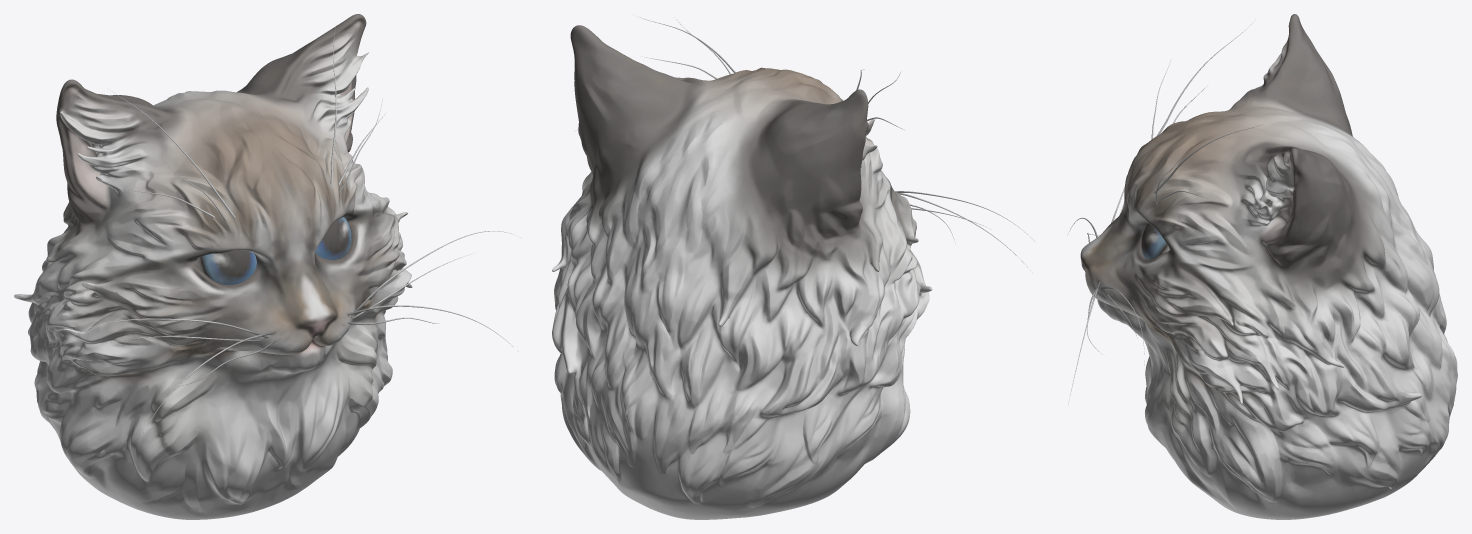
Rendered from imagine_cat.glb.
The picture shows the model from 3 angles, left to right: view 1: azimuth 30°, elevation 25°; view 2: azimuth 150°, elevation 25°; view 3: azimuth 270°, elevation 25°; orthographic projection. The views are drawn at different scales.
Parts seen in each view (by area): view 1: Object_2, Object_3, Object_4; view 2: Object_2, Object_3, Object_4; view 3: Object_2, Object_3, Object_4.
Boxes of the visible parts, bbox=[...] form: Object_2: bbox=[14, 14, 412, 519]; Object_3: bbox=[24, 14, 409, 517]; Object_4: bbox=[50, 27, 520, 442]; Object_2: bbox=[552, 26, 931, 519]; Object_3: bbox=[552, 25, 932, 518]; Object_4: bbox=[574, 17, 1035, 270]; Object_2: bbox=[1080, 14, 1457, 519]; Object_3: bbox=[1080, 17, 1457, 518]; Object_4: bbox=[1068, 19, 1260, 405].
Bounding box in the file's own units: 2.91 × 2.63 × 2.21.
